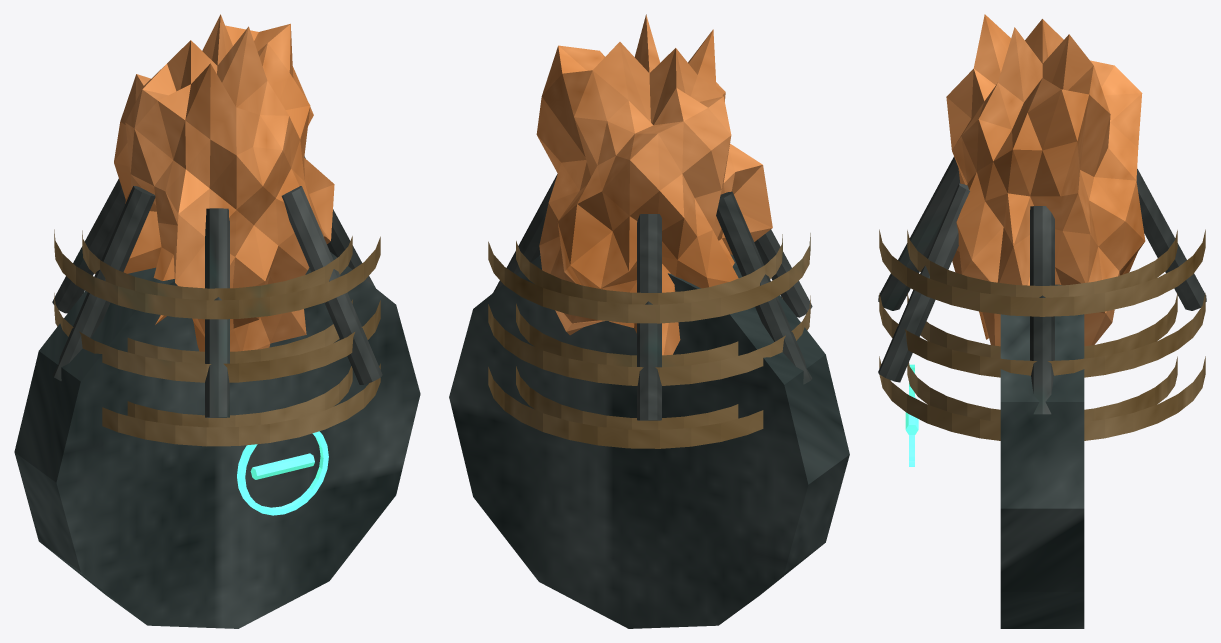
File: 0992_offering_relic_17.glb
3 views of the same model, side by side, from view 1: azimuth 30°, elevation 25°; view 2: azimuth 150°, elevation 25°; view 3: azimuth 270°, elevation 25° (orthographic).
Visible parts, largest first — view 1: stone_dark, amber, brass, iron, glow; view 2: stone_dark, amber, brass, iron; view 3: amber, brass, stone_dark, iron, glow.
Part boxes in pixels (x1,y1,x2,y2): stone_dark: (14, 252, 420, 628); amber: (114, 14, 334, 351); brass: (54, 229, 380, 446); iron: (52, 156, 382, 417); glow: (237, 431, 328, 515); stone_dark: (449, 254, 849, 628); amber: (536, 14, 772, 355); brass: (488, 233, 810, 448); iron: (493, 174, 812, 420); amber: (946, 14, 1145, 346); brass: (879, 229, 1205, 440); stone_dark: (1000, 284, 1084, 628); iron: (878, 157, 1206, 414); glow: (905, 364, 918, 466).
Size of the model in its own units: 0.9 by 1.4 by 0.7056.
Materials: 5 (5 with a texture image).
